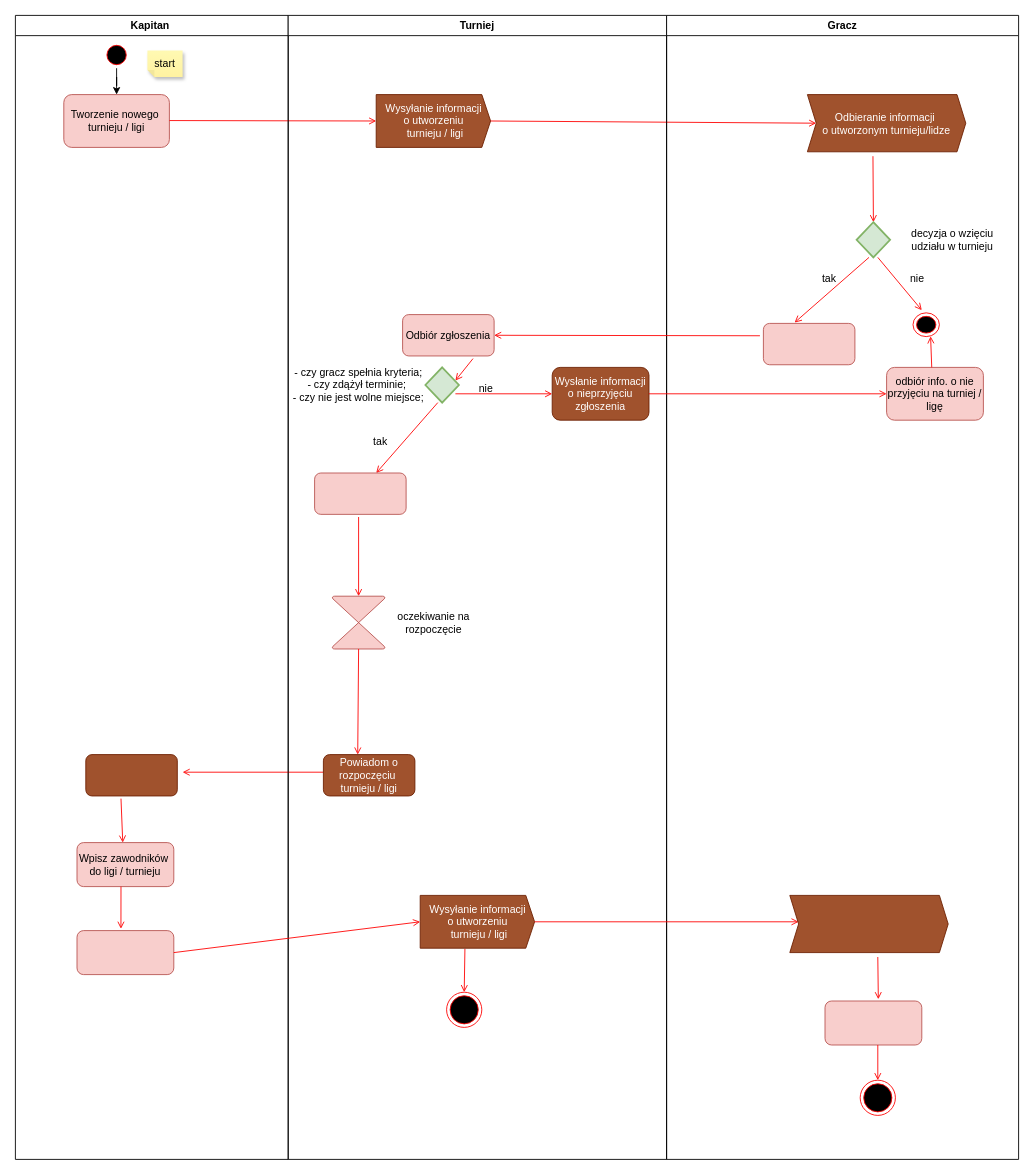
Some shapes in this 1034 by 1175 pixel diagram are drawn without their labels. Here are the shapes that lost their labels. From the top down, the centre of each, then its label:
At pixel 809 344: "zapisz się do turnieju / ligi".
At pixel 360 493: "zapisz gracza do turnieju / ligi".
At pixel 131 775: "Odebranie info. o rozpoczęciu ligi / tunieju".
At pixel 868 924: "Powiadomienie graczy o rozpoczęciu turnieju / ligi".
At pixel 125 952: "Start turnieju".
At pixel 873 1022: "Rozpocznij turniej / ligę".
